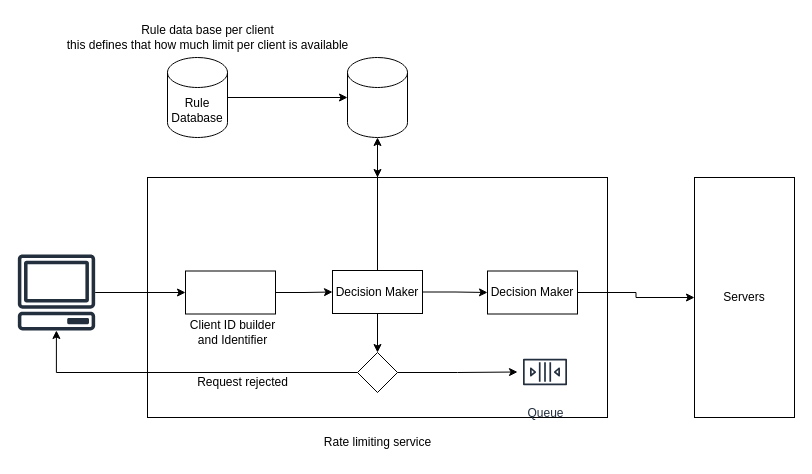
This 812x474 diagram has some shape labels left out. The shapes that lost their labels are listed below. From the top down, each one's box as (x1, y1, x2, y2) in pixels, then its label:
(346, 56, 408, 138): Rule Cache
(184, 270, 276, 314): Generate hashed IDs
